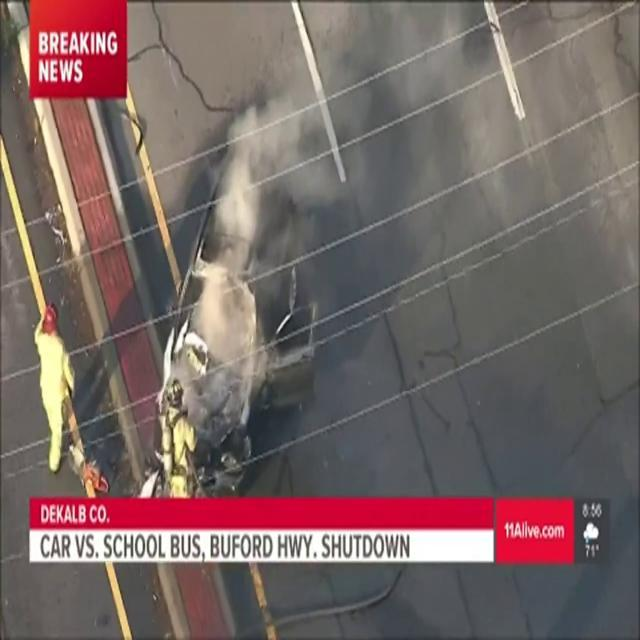Smoke: (336, 0, 640, 254), (179, 94, 334, 384)
